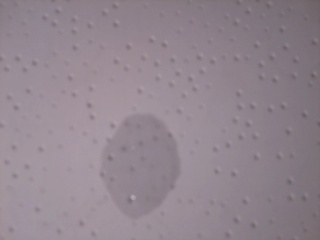Water_detected: (100, 129, 162, 209)
